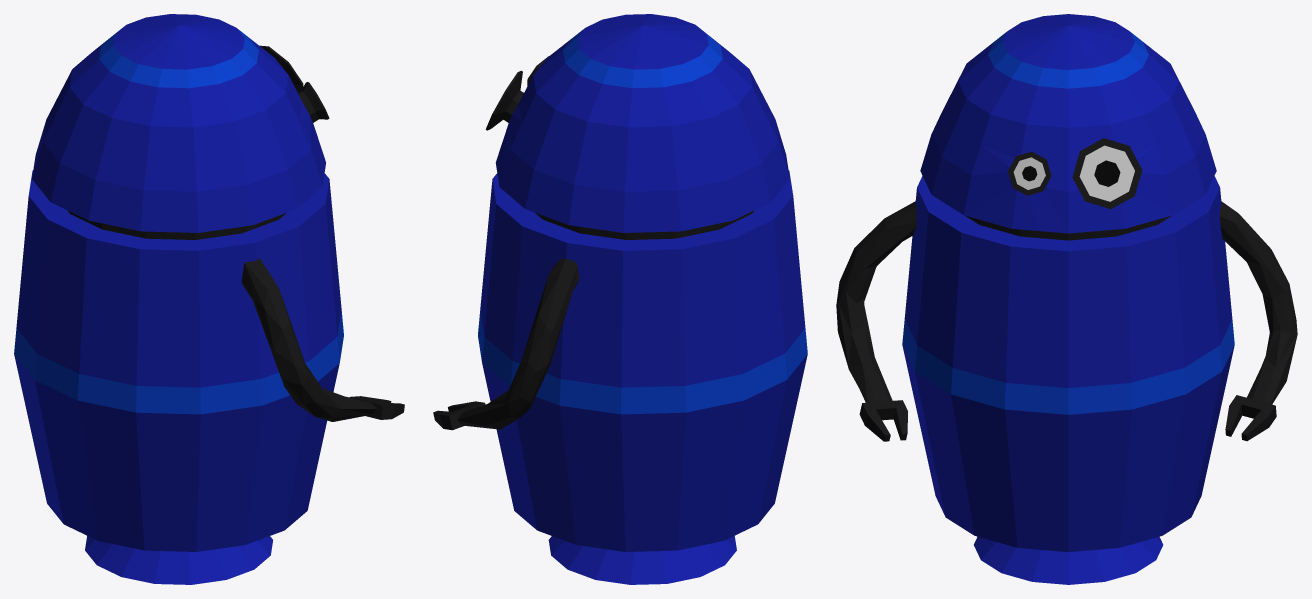
The model's file is blueBot.dae.
The picture shows the model from 3 angles, left to right: view 1: azimuth 30°, elevation 25°; view 2: azimuth 150°, elevation 25°; view 3: azimuth 270°, elevation 25°; orthographic projection.
Visible parts, largest first — view 1: Cylinder, Circle_002, Cube_001; view 2: Cylinder, Circle_001, Cube; view 3: Cylinder, Circle_002, Circle_001, Cube, Cube_001.
Part boxes in pixels (x1,y1,x2,y2): Cylinder: (14, 14, 343, 584); Circle_002: (241, 258, 376, 421); Cube_001: (349, 396, 404, 419); Cylinder: (478, 14, 807, 584); Circle_001: (457, 258, 579, 429); Cube: (433, 401, 485, 430); Cylinder: (902, 14, 1234, 584); Circle_002: (836, 201, 916, 402); Circle_001: (1219, 201, 1297, 404); Cube: (1225, 395, 1276, 441); Cube_001: (859, 400, 907, 441).
Bounding box in the file's own units: 2 × 3.45 × 2.77.
